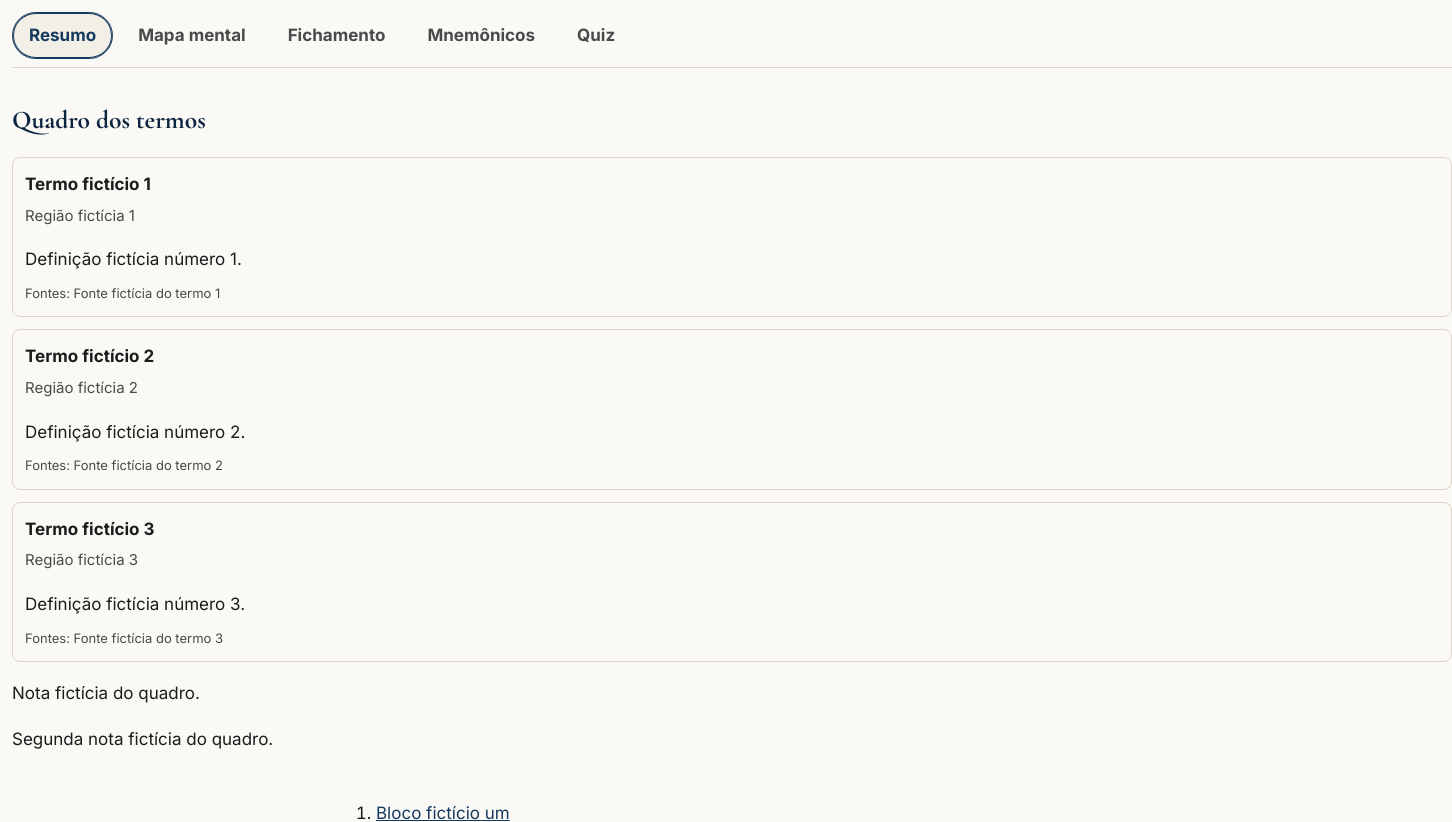
Test: ConteudoJuri: abas depois de aberta › trocar de aba mostra o painel dela (fichamento)
Step 1. Click the tab "Fichamento" → [336, 35], box [271,12,402,59]
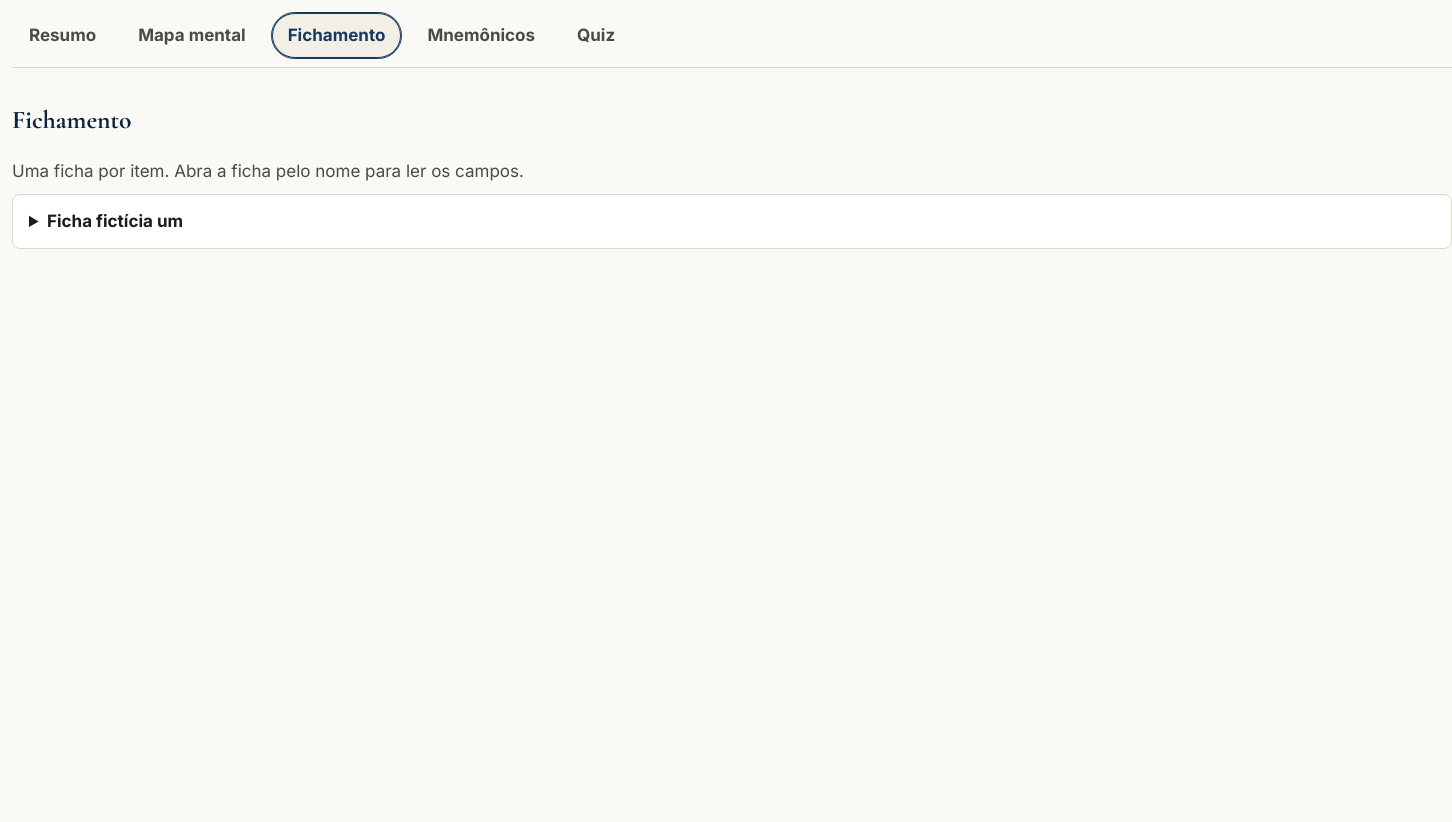
Now the text "Ficha fictícia um" is shown, box [47,211,183,231]
Now the text "Termo fictício 1" is gone
